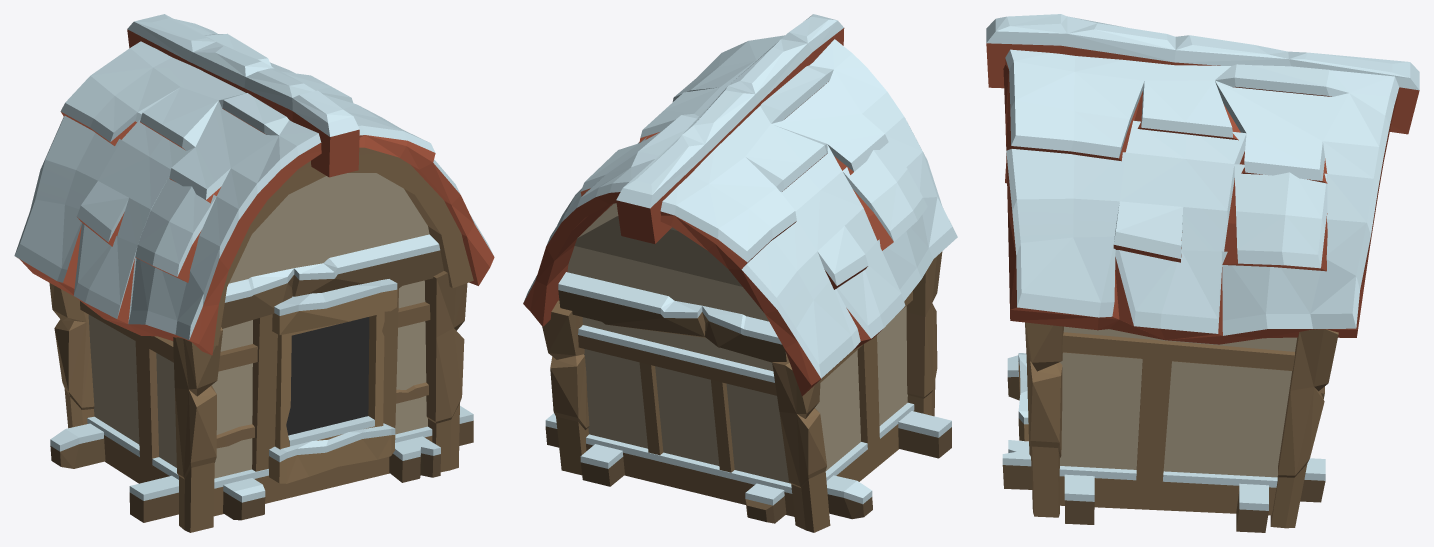
The model's file is SM_Bld_House_Window_03_Snow.gltf.
The picture shows the model from 3 angles, left to right: view 1: azimuth 30°, elevation 25°; view 2: azimuth 150°, elevation 25°; view 3: azimuth 270°, elevation 25°; orthographic projection. The views are drawn at different scales.
Visible parts, largest first — view 1: SM_Bld_House_Window_03_Snow; view 2: SM_Bld_House_Window_03_Snow; view 3: SM_Bld_House_Window_03_Snow.
Part boxes in pixels (left/top/right/bottom): SM_Bld_House_Window_03_Snow: left=14, top=14, right=494, bottom=532; SM_Bld_House_Window_03_Snow: left=523, top=14, right=957, bottom=532; SM_Bld_House_Window_03_Snow: left=986, top=14, right=1419, bottom=532.
Bounding box in the file's own units: 1.81 × 2.15 × 1.93.
Materials: 1 (1 with a texture image).
